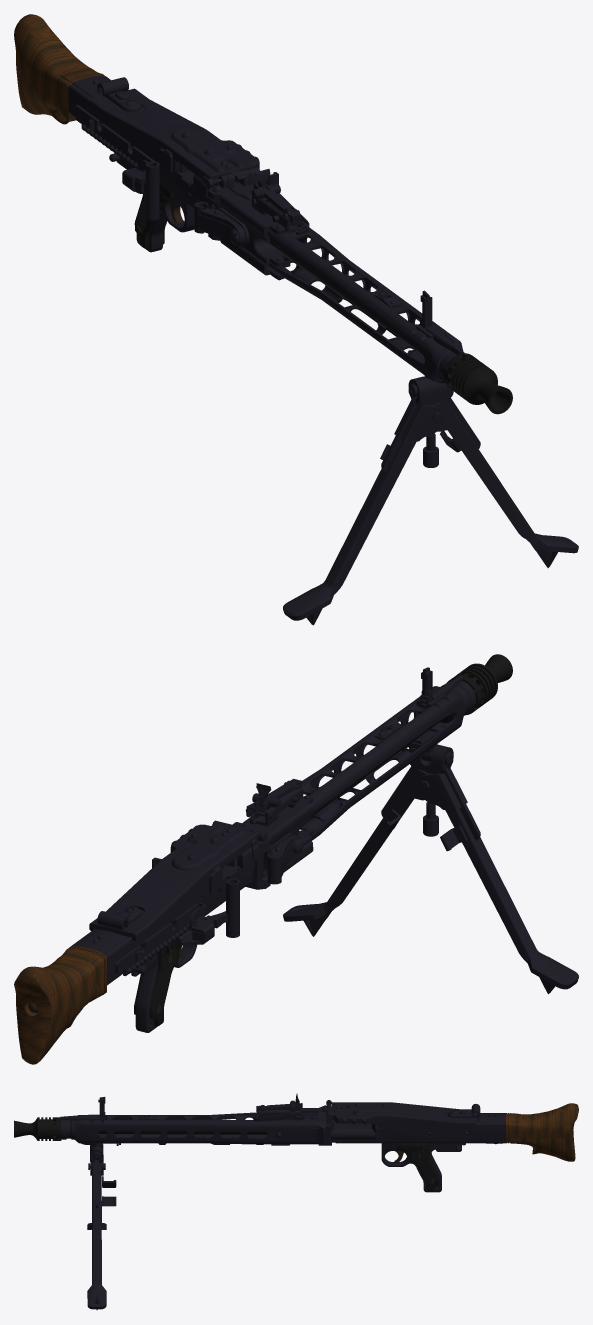
3 renders of one model, top to bottom at view 1: azimuth 30°, elevation 25°; view 2: azimuth 150°, elevation 25°; view 3: azimuth 270°, elevation 25°, orthographic. The views are drawn at different scales.
Parts seen in each view (by area): view 1: MG42gun1, MG42mbo1, MG42bip1, MG42pad, MG42mbo, MG42bip3, MG42gun, MG42sigh, MG42cah, MG42trg1, MG42bisp, MG42grip; view 2: MG42gun1, MG42mbo1, MG42pad, MG42bip1, MG42mbo, MG42bip3, MG42gun, MG42cah, MG42sigh, MG42trg1, MG42grip, MG42bisp; view 3: MG42gun1, MG42mbo, MG42mbo1, MG42pad, MG42bip3, MG42gun, MG42trg1, MG42grip, MG42sigh, MG42bip1.
Part boxes in pixels (x1,y1,x2,y2): MG42gun1: [194, 191, 464, 383]; MG42mbo1: [89, 77, 259, 199]; MG42bip1: [283, 398, 443, 625]; MG42pad: [14, 14, 105, 124]; MG42mbo: [68, 75, 278, 240]; MG42bip3: [432, 398, 578, 567]; MG42gun: [269, 242, 512, 414]; MG42sigh: [251, 169, 309, 235]; MG42cah: [122, 160, 159, 220]; MG42trg1: [109, 153, 194, 252]; MG42bisp: [408, 376, 453, 467]; MG42grip: [134, 184, 174, 248]; MG42gun1: [242, 667, 476, 884]; MG42mbo1: [89, 822, 258, 942]; MG42pad: [14, 946, 106, 1064]; MG42bip1: [418, 767, 578, 993]; MG42mbo: [70, 820, 270, 985]; MG42bip3: [283, 766, 430, 936]; MG42gun: [311, 654, 512, 816]; MG42cah: [175, 878, 239, 945]; MG42sigh: [245, 778, 303, 826]; MG42trg1: [131, 945, 196, 1032]; MG42grip: [134, 941, 181, 1026]; MG42bisp: [409, 744, 453, 836]; MG42gun1: [60, 1097, 318, 1146]; MG42mbo: [308, 1100, 505, 1145]; MG42mbo1: [322, 1102, 480, 1129]; MG42pad: [506, 1103, 578, 1161]; MG42bip3: [87, 1160, 116, 1310]; MG42gun: [14, 1117, 267, 1140]; MG42trg1: [381, 1143, 465, 1192]; MG42grip: [396, 1143, 439, 1191]; MG42sigh: [253, 1093, 304, 1121]; MG42bip1: [87, 1155, 116, 1229].
Size of the model in its own units: 3136 by 3171 by 8956.
